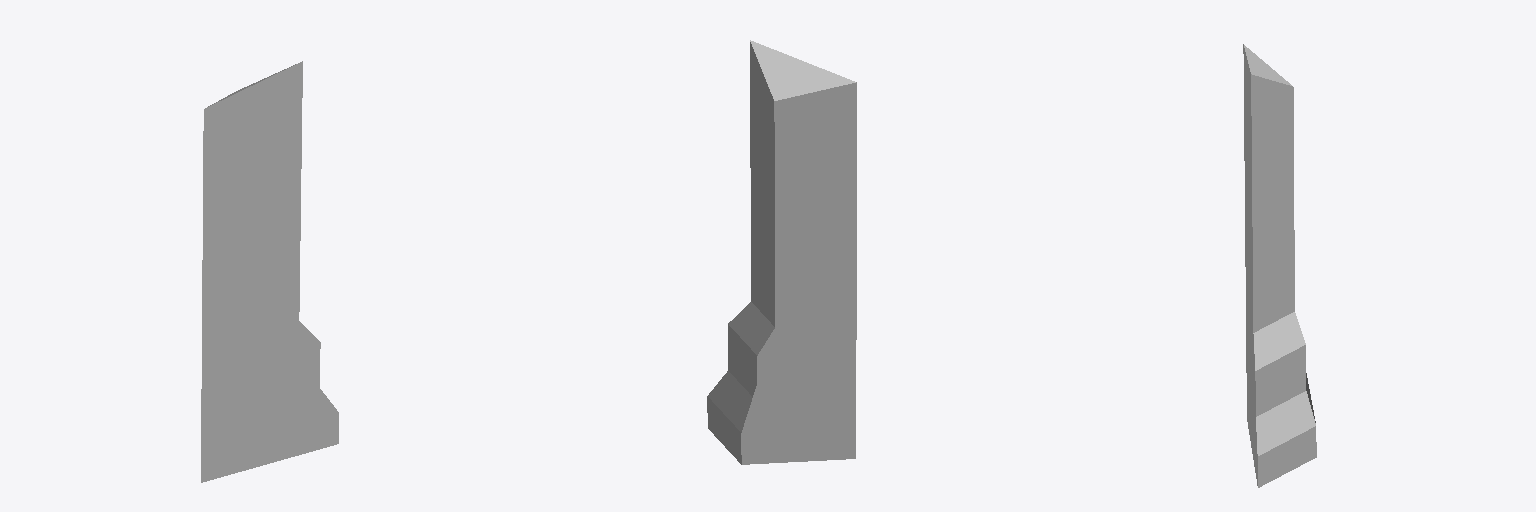
File: Debris17.obj
3 views of the same model, side by side, from view 1: azimuth 30°, elevation 25°; view 2: azimuth 150°, elevation 25°; view 3: azimuth 270°, elevation 25° (orthographic).
Parts seen in each view (by area): view 1: Debris17; view 2: Debris17; view 3: Debris17.
Part boxes in pixels (x1,y1,x2,y2): Debris17: (201,61,338,482); Debris17: (707,40,856,464); Debris17: (1243,44,1316,487).
Size of the model in its own units: 2.34 by 6.14 by 1.03.